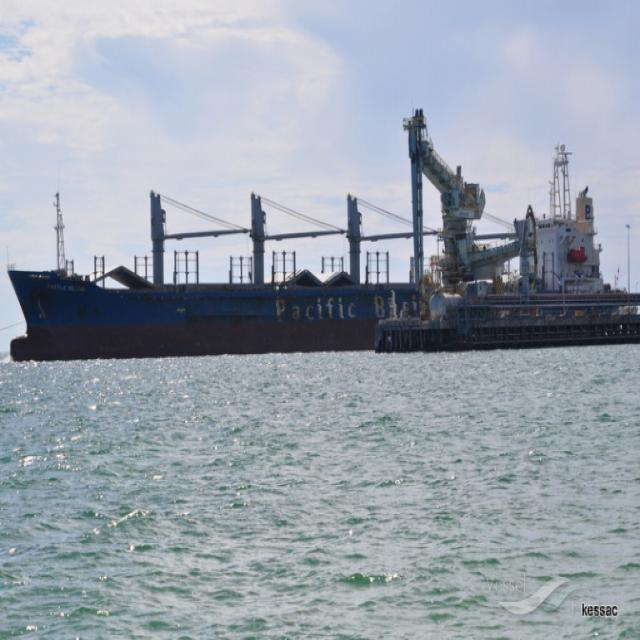OCR: (265, 290, 419, 331)
